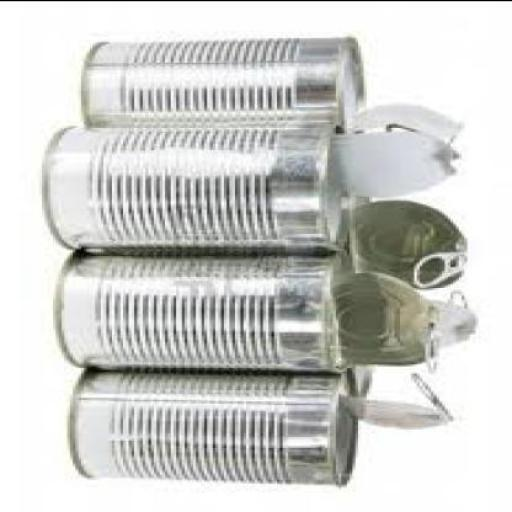metal: (75, 367, 459, 482), (44, 118, 347, 246), (59, 249, 358, 365), (84, 34, 366, 132), (336, 268, 481, 363), (360, 198, 472, 288), (344, 121, 465, 194), (344, 372, 458, 428), (352, 104, 464, 153), (73, 241, 353, 253), (355, 357, 375, 397)
